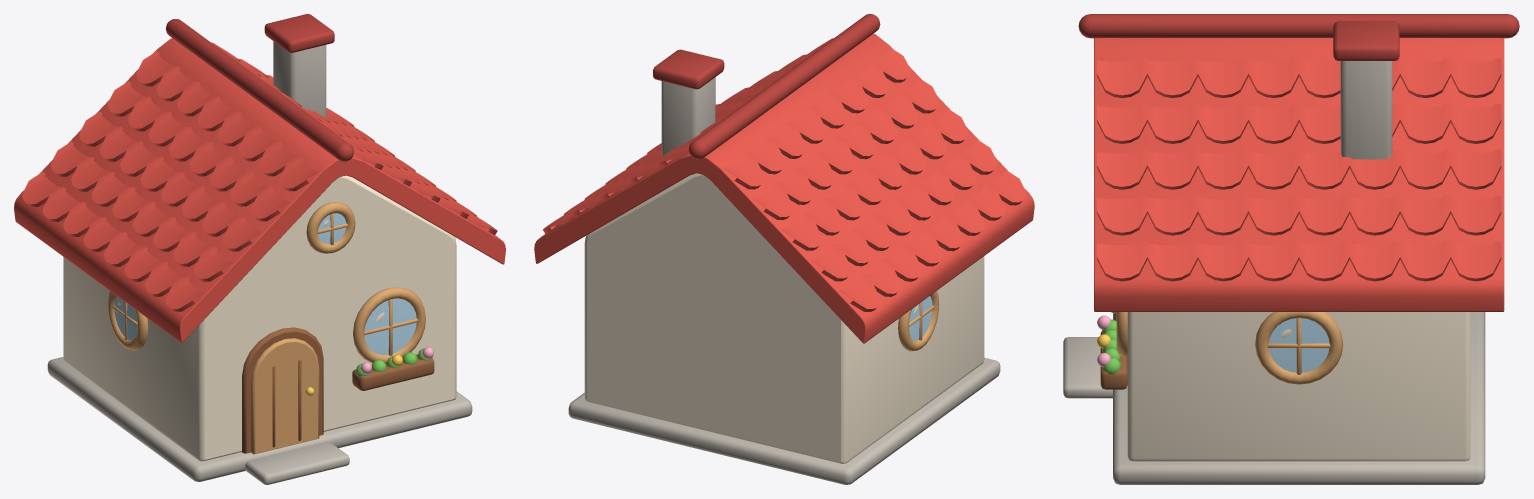
File: prop_house.glb
3 renders of one model, left to right at view 1: azimuth 30°, elevation 25°; view 2: azimuth 150°, elevation 25°; view 3: azimuth 270°, elevation 25°, orthographic. The views are drawn at different scales.
Visible parts, largest first — view 1: prop_house; view 2: prop_house; view 3: prop_house.
Part boxes in pixels (x1,y1,x2,y2): prop_house: (14,14,505,484); prop_house: (534,14,1034,484); prop_house: (1063,14,1519,484).
Bounding box in the file's own units: 3.8 × 3.7 × 3.73.
